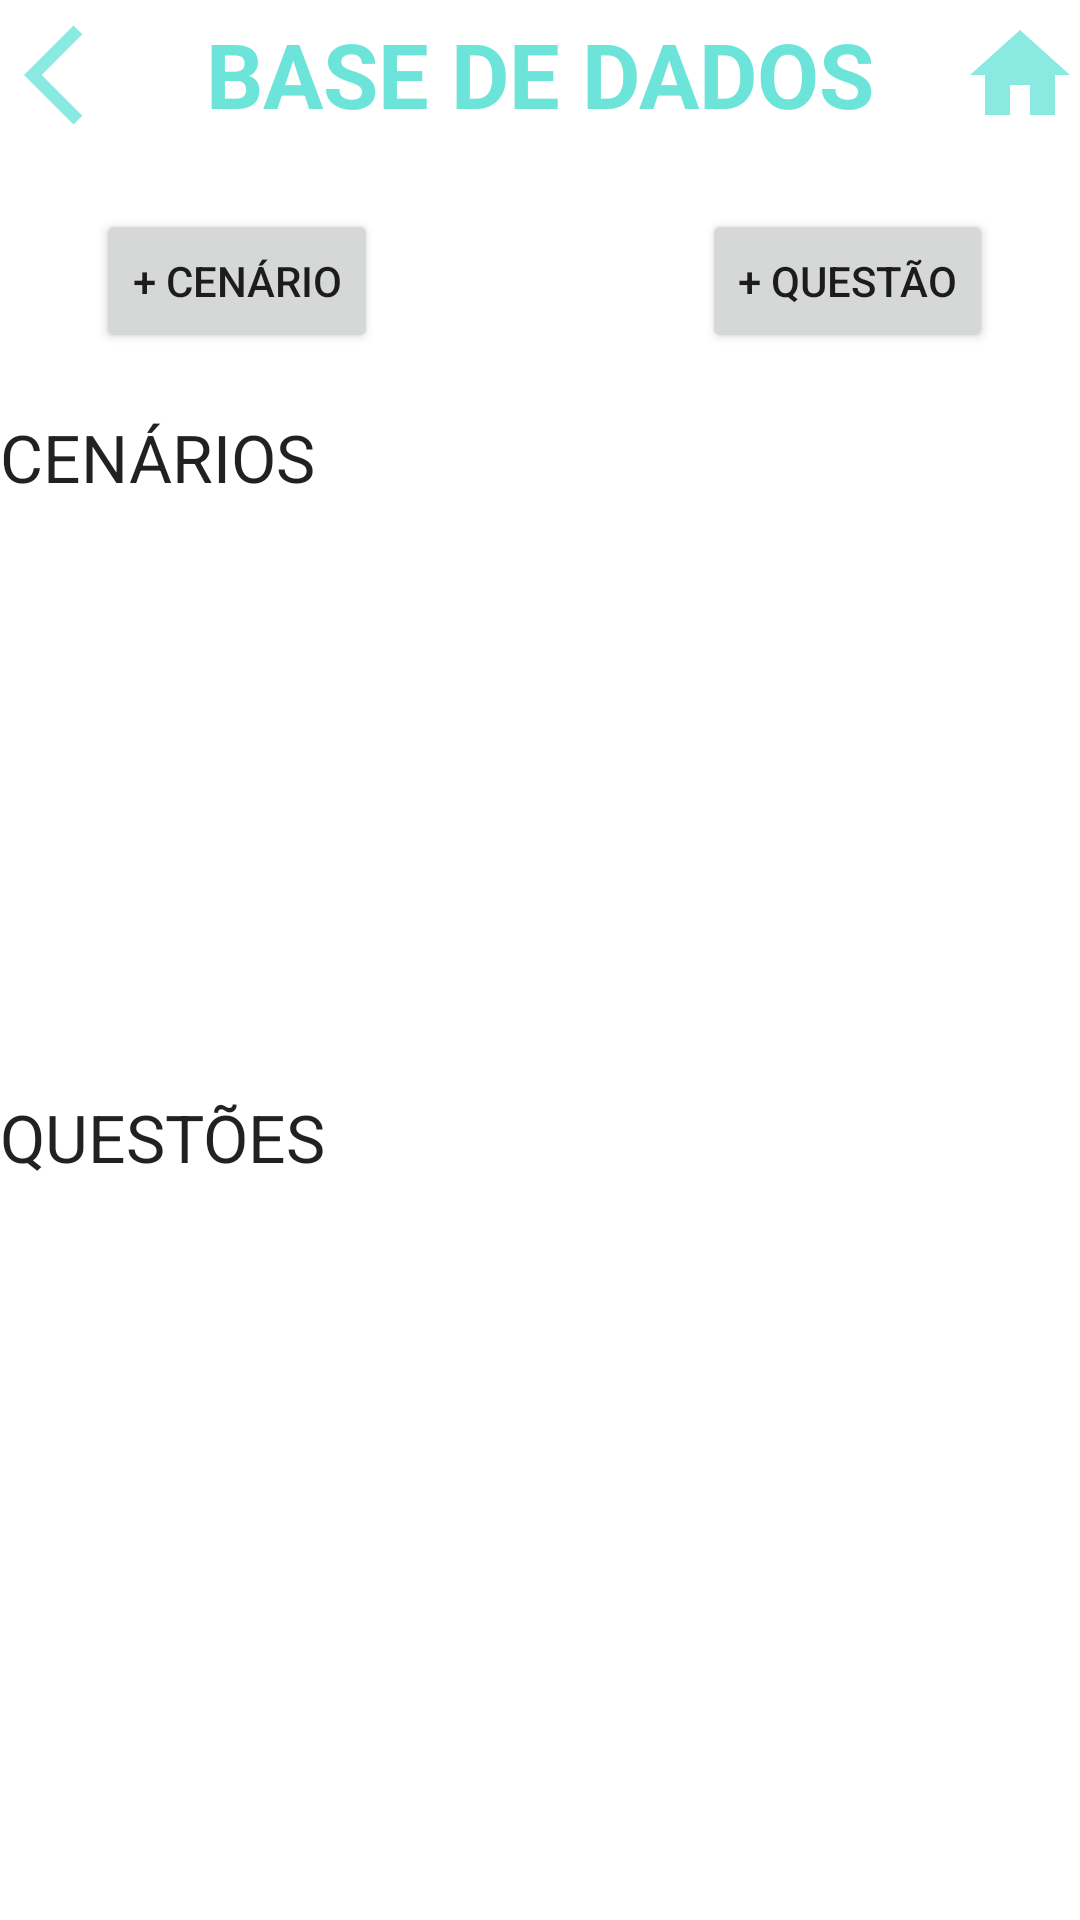

Icons on this 1080px×1920px Android screen, each with the point to tap as (x=x, y=y):
getback: (x=53, y=75)
home: (x=1020, y=72)
